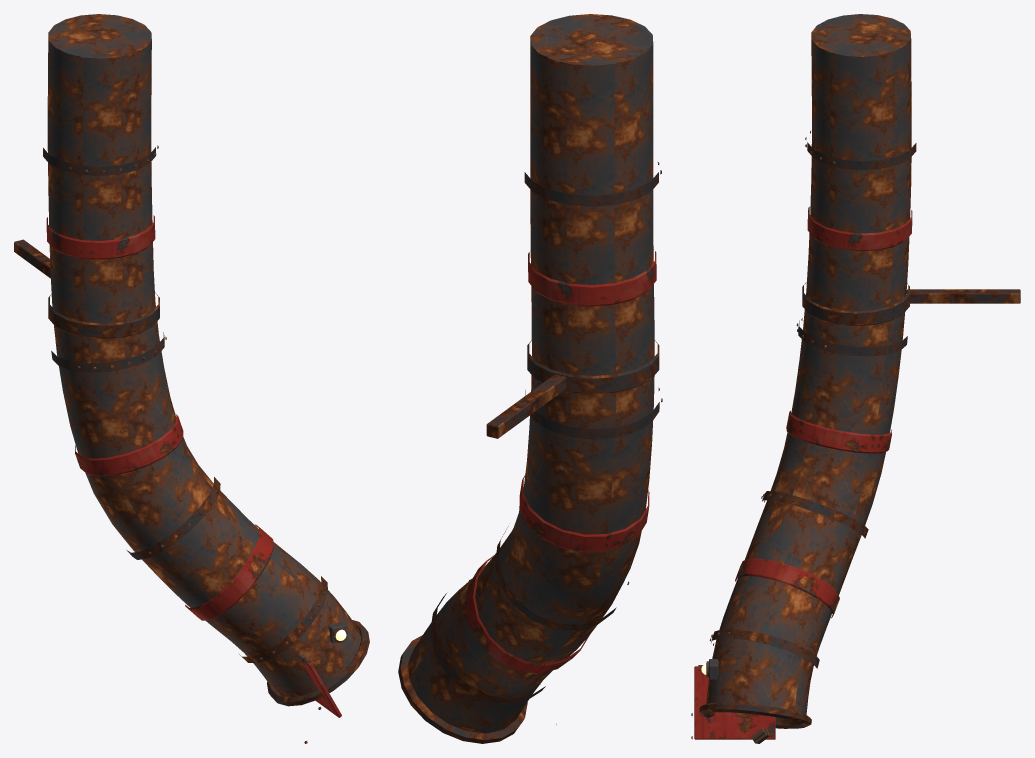
Rendered from Garbage_Chute.glb.
The picture shows the model from 3 angles, left to right: view 1: azimuth 30°, elevation 25°; view 2: azimuth 150°, elevation 25°; view 3: azimuth 270°, elevation 25°; orthographic projection. The views are drawn at different scales.
Parts seen in each view (by area): view 1: Garbage_Chute; view 2: Garbage_Chute; view 3: Garbage_Chute.
Boxes of the visible parts, x1,y1,x2,y2 form: Garbage_Chute: [14, 14, 369, 743]; Garbage_Chute: [398, 14, 662, 743]; Garbage_Chute: [691, 14, 1020, 743].
Bounding box in the file's own units: 3.52 × 8.78 × 4.04.
5 materials, 4 textured.
